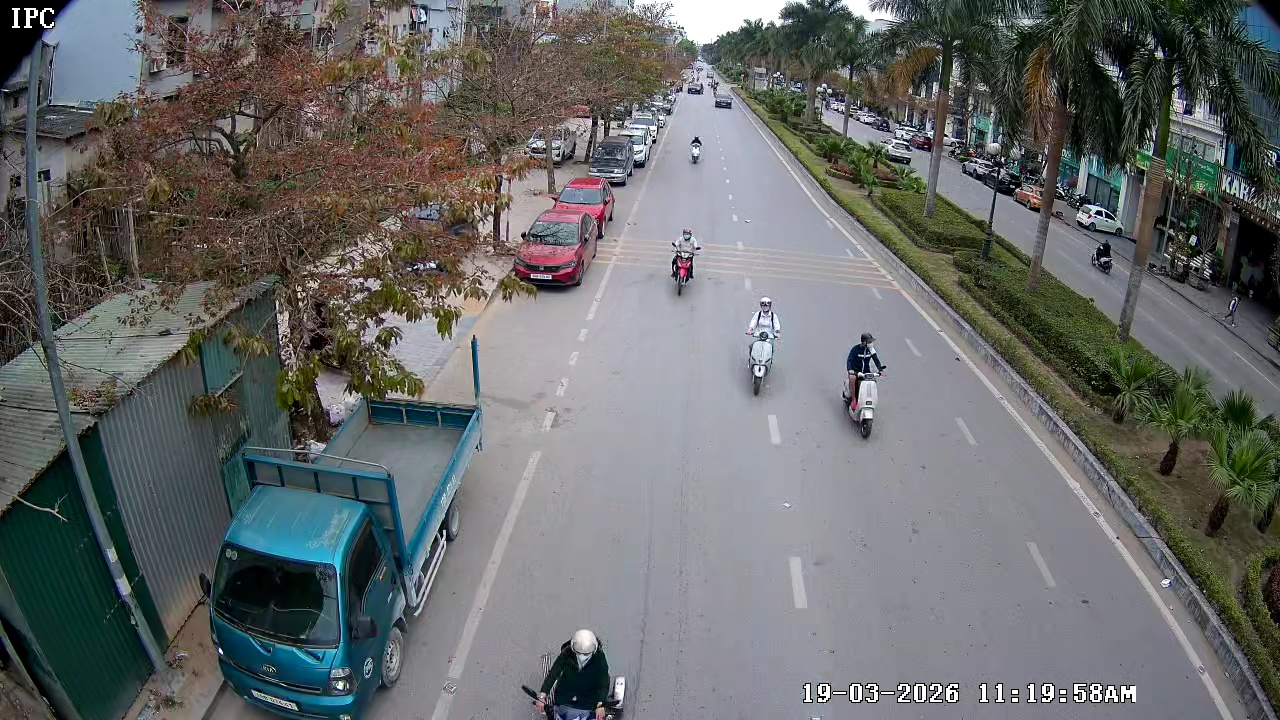car: (514, 209, 591, 290), (552, 175, 616, 239), (586, 128, 634, 188), (714, 91, 735, 111), (687, 80, 707, 96)
exception: (511, 615, 640, 719)
motorbike: (840, 331, 888, 439), (744, 295, 783, 396), (668, 227, 701, 298), (688, 135, 708, 166)
